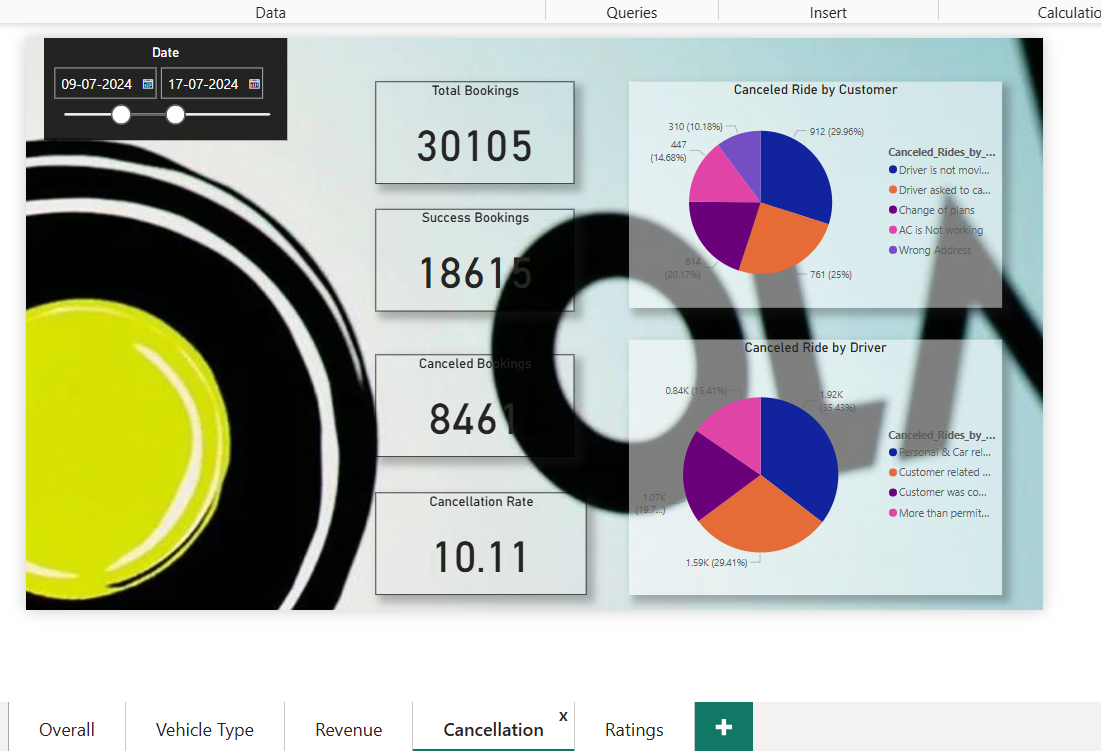

The page's visual inventory and layout, read from the dashboard file:
{"tool":"powerbi","page":{"name":"Cancellation","canvas":[1280,720],"ordinal":3},"visuals":[{"type":"pieChart","title":"Canceled Ride by Customer","fields":{"Y":["CountNonNull(July.Canceled_Rides_by_Customer)"],"Category":["July.Canceled_Rides_by_Customer"]},"box":[757.7,53.8,469.2,284.6],"z":0},{"type":"pieChart","title":"Canceled Ride by Driver","fields":{"Category":["July.Canceled_Rides_by_Driver"],"Y":["CountNonNull(July.Canceled_Rides_by_Driver)"]},"box":[757.7,378.8,469.2,321.2],"z":2},{"type":"slicer","title":"Date","fields":{"Values":["July.Date"]},"box":[23.1,0,305.8,128.8],"z":3},{"type":"card","title":"Total Bookings","fields":{"Values":["CountNonNull(July.Booking_ID)"]},"box":[440.4,53.8,250,128.8],"z":4},{"type":"card","title":"Success Bookings","fields":{"Values":["CountNonNull(July.Booking_ID)"]},"box":[440.4,215.4,250,128.8],"z":5},{"type":"card","title":"Canceled Bookings","fields":{"Values":["CountNonNull(July.Booking_ID)"]},"box":[440.4,398.1,250,128.8],"z":6},{"type":"card","title":"Cancellation Rate","fields":{"Values":["July.Canceled percentage"]},"box":[440.4,571.2,265.4,128.8],"z":7}]}

Visuals, with their boxes on the page's 1280x720 design canvas (x1, y1, x2, y2). These are canvas units, not pixel positions in the 1101x751 screenshot, which may show the page scaled, cropped or inside an application window:
"Canceled Ride by Customer" pieChart: {"x1": 758, "y1": 54, "x2": 1227, "y2": 338}
"Canceled Ride by Driver" pieChart: {"x1": 758, "y1": 379, "x2": 1227, "y2": 700}
"Date" slicer: {"x1": 23, "y1": 0, "x2": 329, "y2": 129}
"Total Bookings" card: {"x1": 440, "y1": 54, "x2": 690, "y2": 183}
"Success Bookings" card: {"x1": 440, "y1": 215, "x2": 690, "y2": 344}
"Canceled Bookings" card: {"x1": 440, "y1": 398, "x2": 690, "y2": 527}
"Cancellation Rate" card: {"x1": 440, "y1": 571, "x2": 706, "y2": 700}
